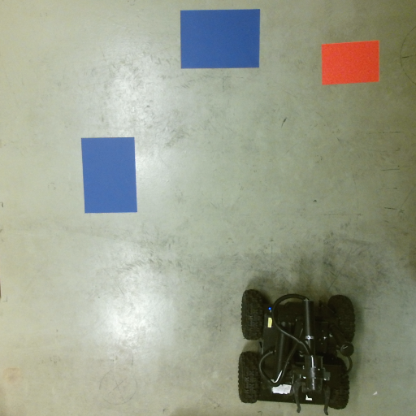Blue: (178, 9, 260, 71), (78, 137, 139, 214)
Jaguar: (237, 288, 358, 416)
Red: (319, 41, 382, 85)
